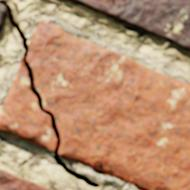brick: (70, 0, 189, 51), (0, 170, 50, 189), (0, 5, 8, 32)
broken_brick: (27, 21, 189, 189), (0, 61, 57, 152)
crack: (0, 1, 99, 188)
